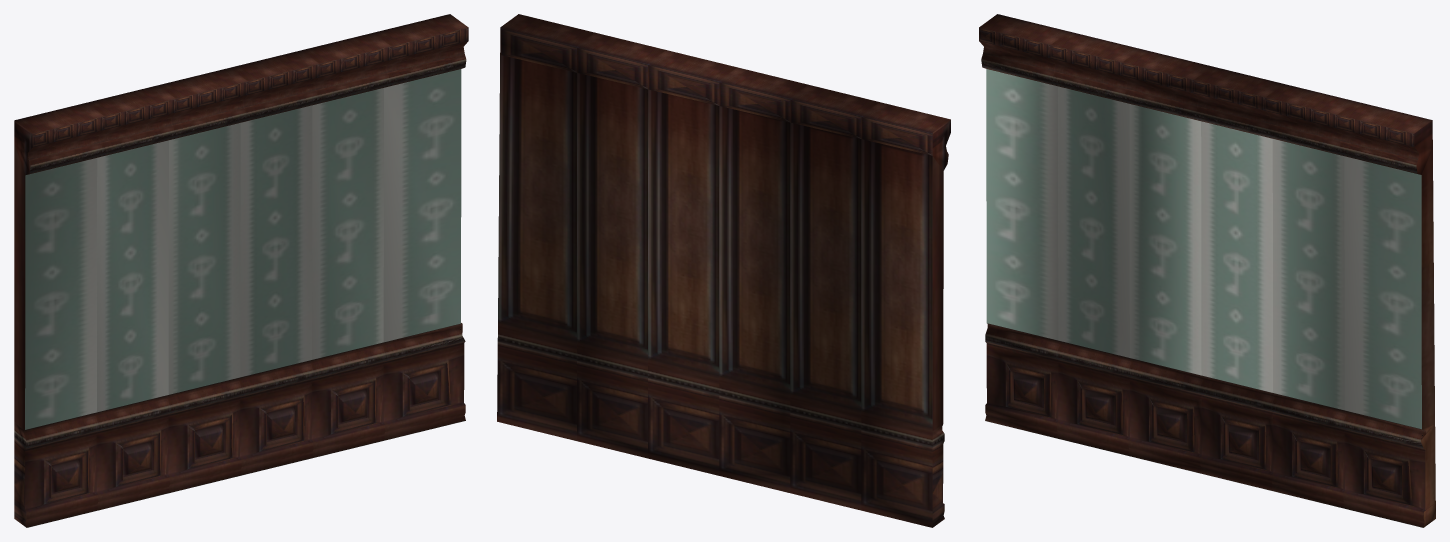
Rendered from DollWall.fbx.
3 renders of one model, left to right at view 1: azimuth 30°, elevation 25°; view 2: azimuth 150°, elevation 25°; view 3: azimuth 330°, elevation 25°, orthographic.
Parts seen in each view (by area): view 1: Walls.002; view 2: Walls.002; view 3: Walls.002.
Boxes of the visible parts, x1,y1,x2,y2 form: Walls.002: (14,14,468,527); Walls.002: (497,14,950,527); Walls.002: (979,14,1435,527).
Size of the model in its own units: 624 by 541 by 45.45.
